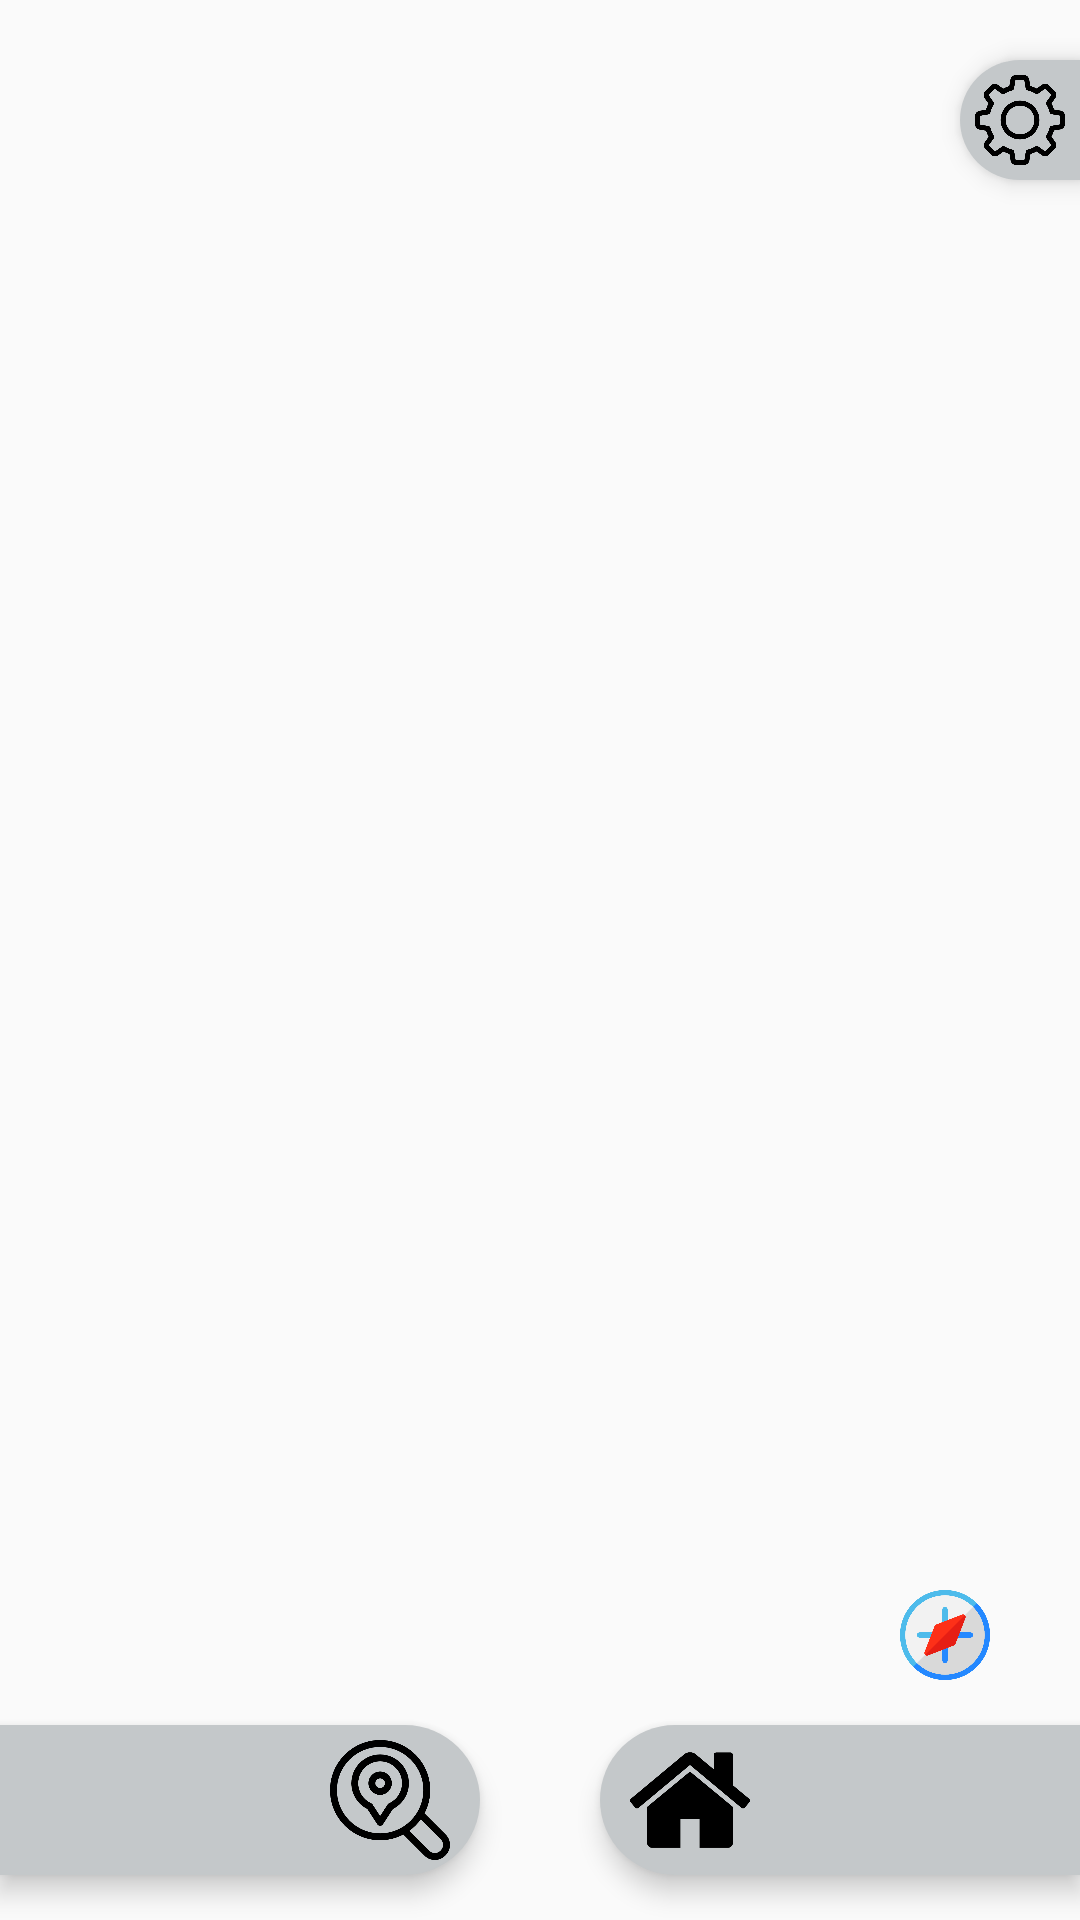

Screen size 1080 x 1920. Icon name, then its box in pixels as (x1,y1,x2,y2):
compass: (900,1590,990,1680)
home: (630,1752,750,1848)
settings: (975,75,1065,165)
